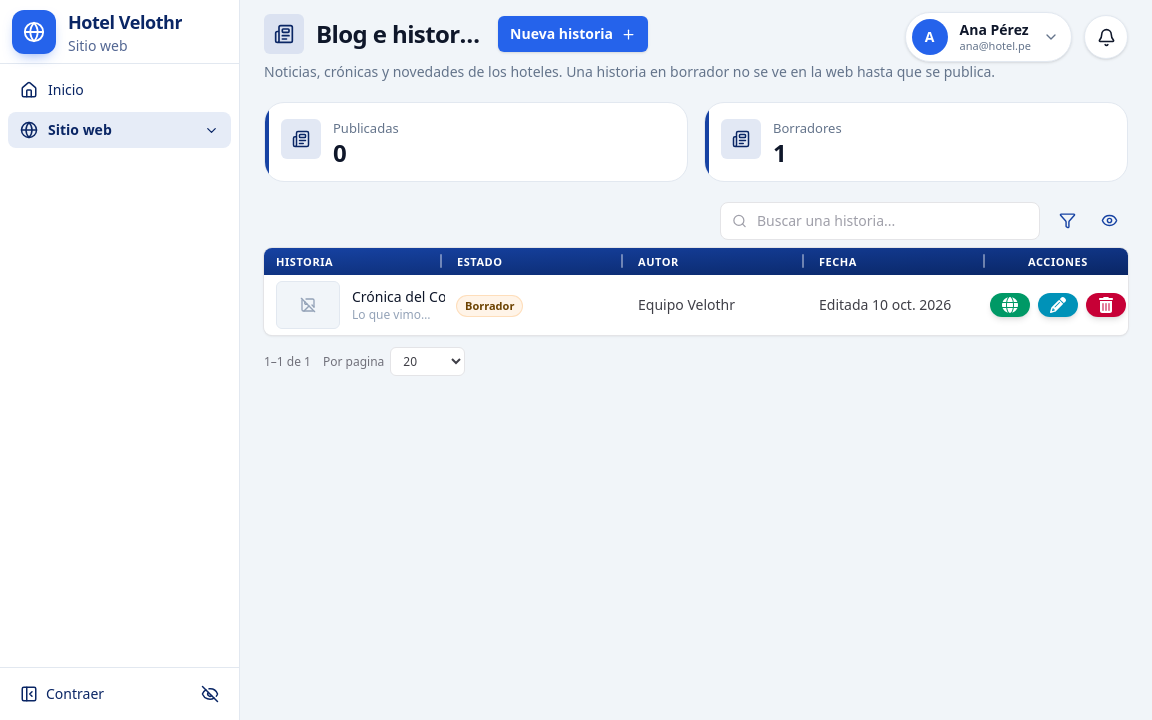
Scenario: el panel del sitio web › blog e historias › publicar pide confirmación y cambia el estado
Expected: the text "Borrador" is shown, [457, 296, 522, 316]
Click the button named "Publicar Crónica del Colca" at (1010, 305), box [990, 293, 1030, 317]
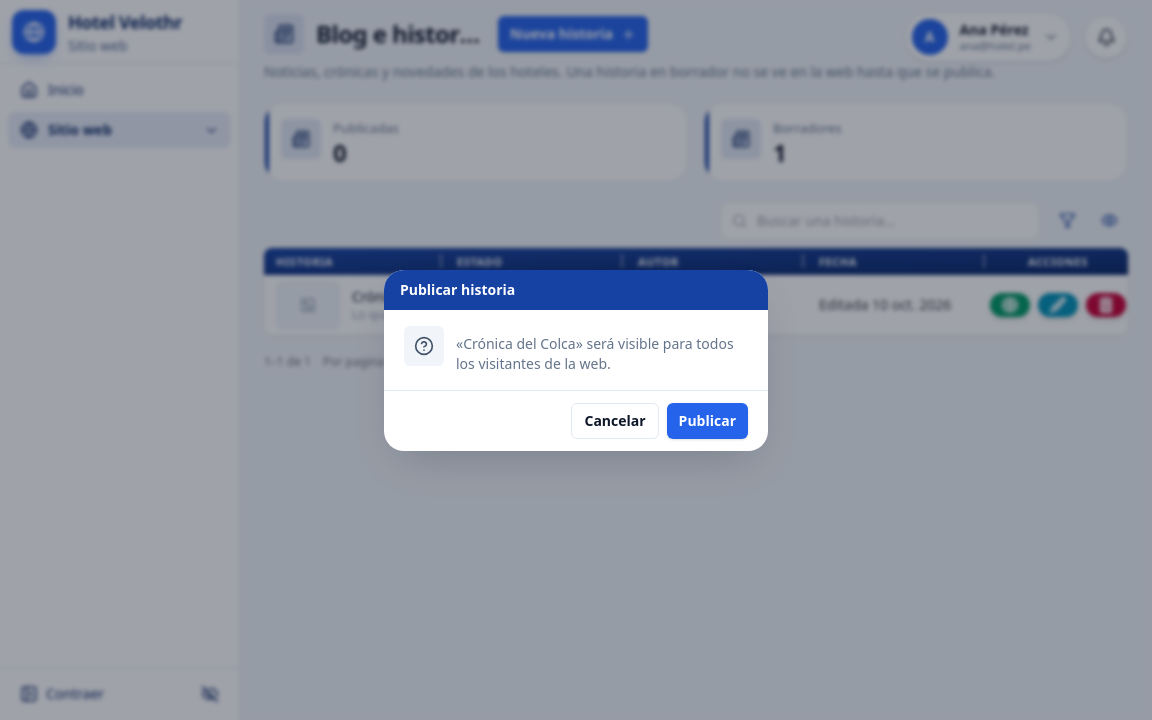
Click the button "Publicar" at (707, 420), box [667, 402, 748, 438]
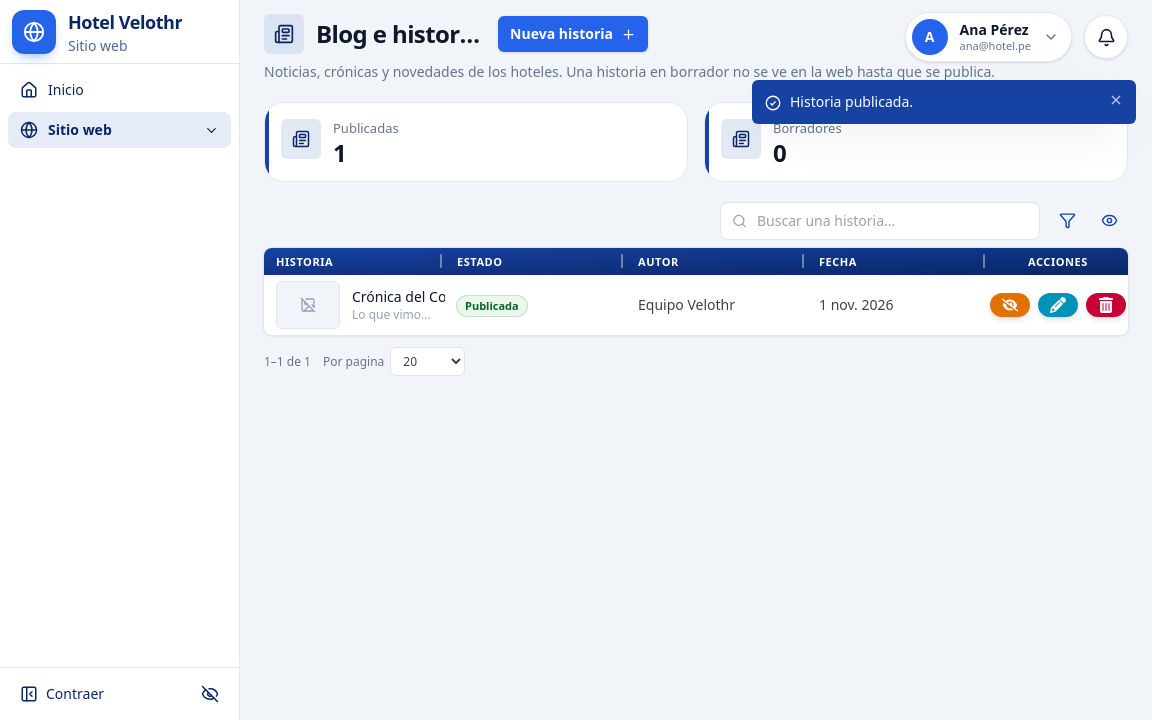
Now the text "Publicada" is shown, box [457, 296, 527, 316]
